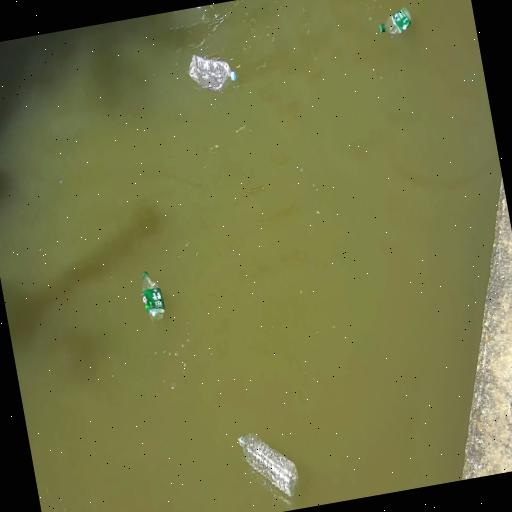plastic: (239, 434, 298, 496), (189, 55, 236, 91), (142, 271, 165, 324), (379, 8, 411, 35)
